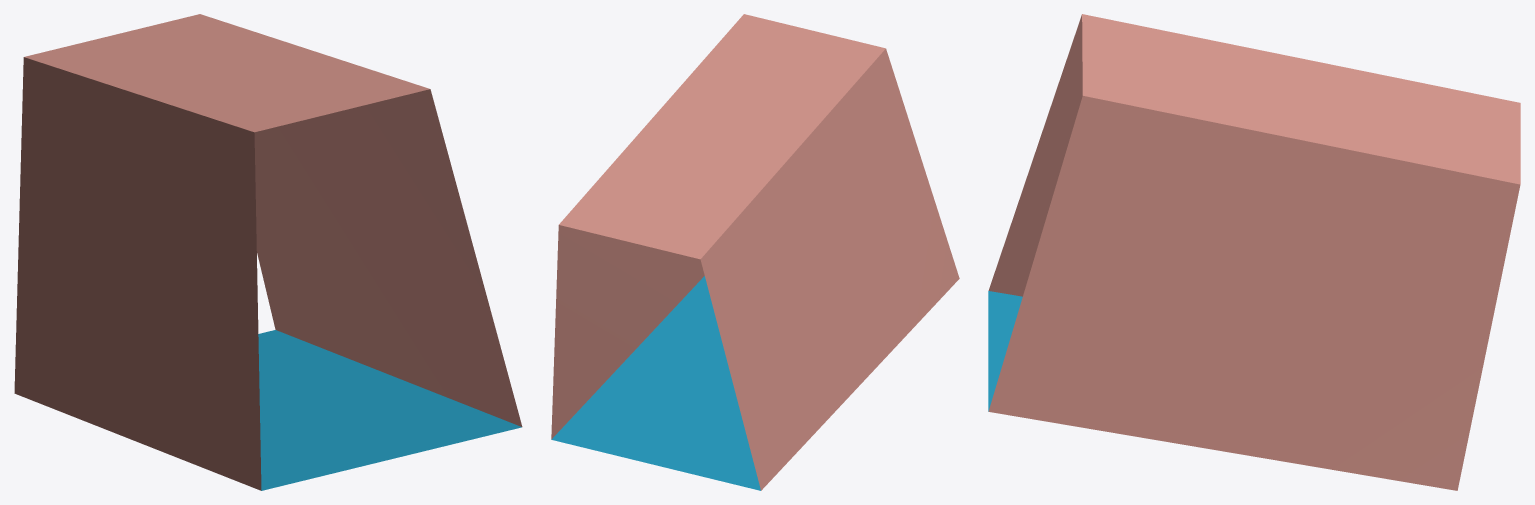
The model's file is cluster_9.fbx.
The picture shows the model from 3 angles, left to right: view 1: azimuth 30°, elevation 25°; view 2: azimuth 150°, elevation 25°; view 3: azimuth 270°, elevation 25°; orthographic projection. The views are drawn at different scales.
Visible parts, largest first — view 1: cluster_9; view 2: cluster_9; view 3: cluster_9.
Boxes of the visible parts, box(x1,y1,x2,y2) form: cluster_9: box(14, 14, 522, 490); cluster_9: box(551, 14, 959, 490); cluster_9: box(988, 14, 1520, 490).
Bounding box in the file's own units: 12335 × 17862 × 22927.
